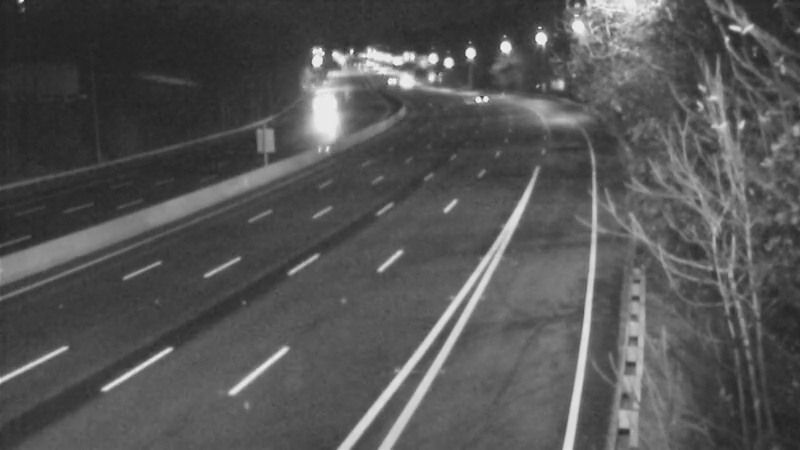vehicle: (453, 70, 503, 120), (292, 79, 342, 129)
